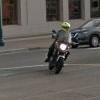Motorcycle: (41, 25, 73, 73)
